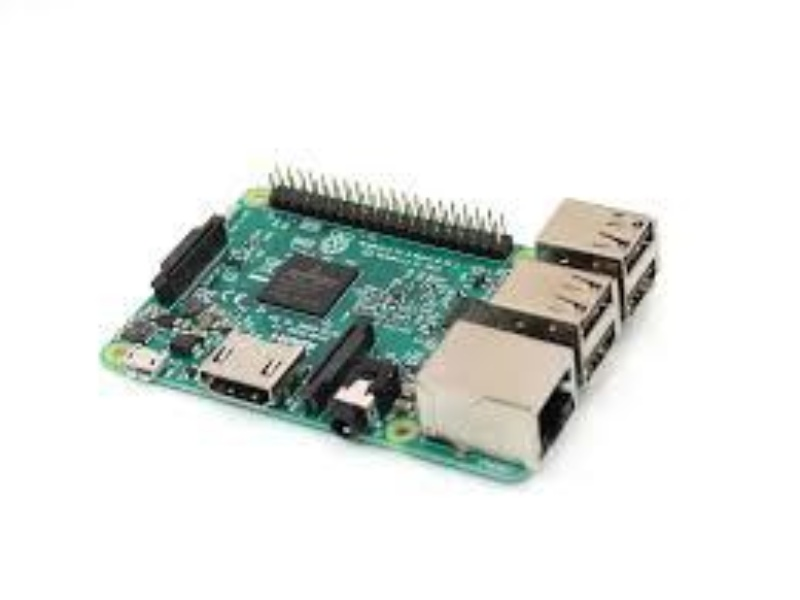raspberrypi: (120, 162, 648, 488)
